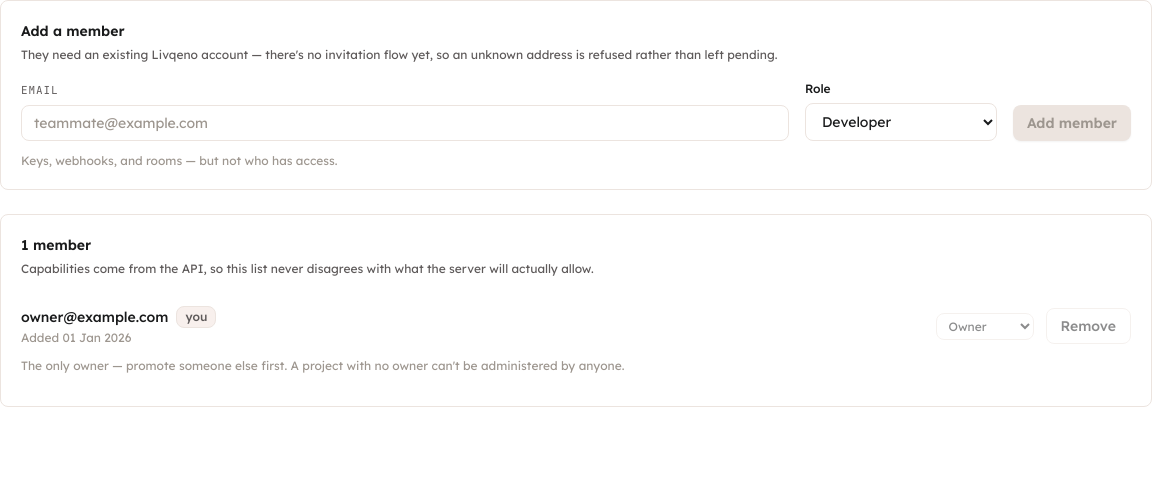
Scenario: MembersManager › adds a member on success, with a toast and no inline error
This screenshot has width=1152, height=487.
Type "new@example.com" into the field labelled "Email". click: (405, 122)
box: [21,104,789,140]
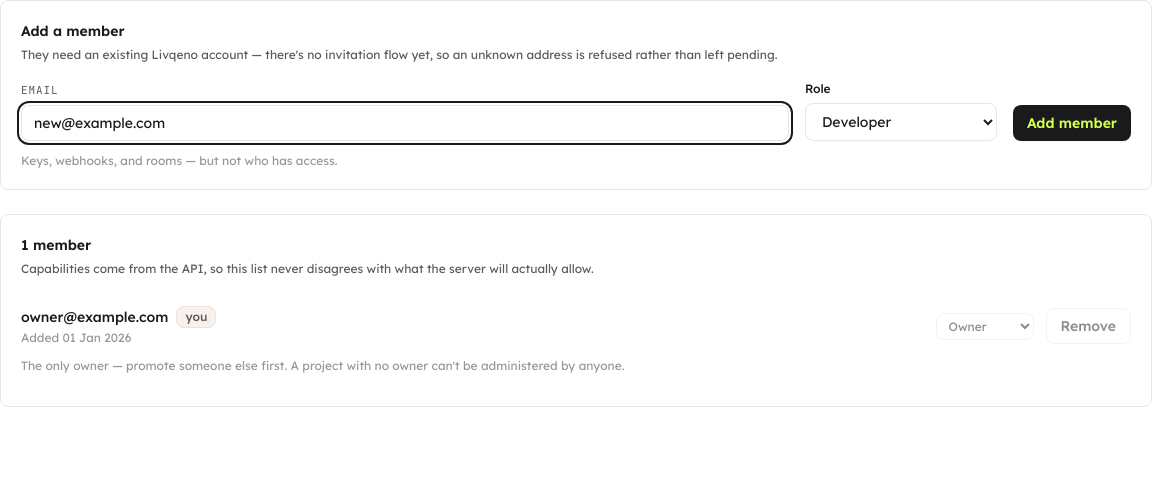
Click the button "Add member". click: (1072, 122)
box: [1013,104,1131,140]
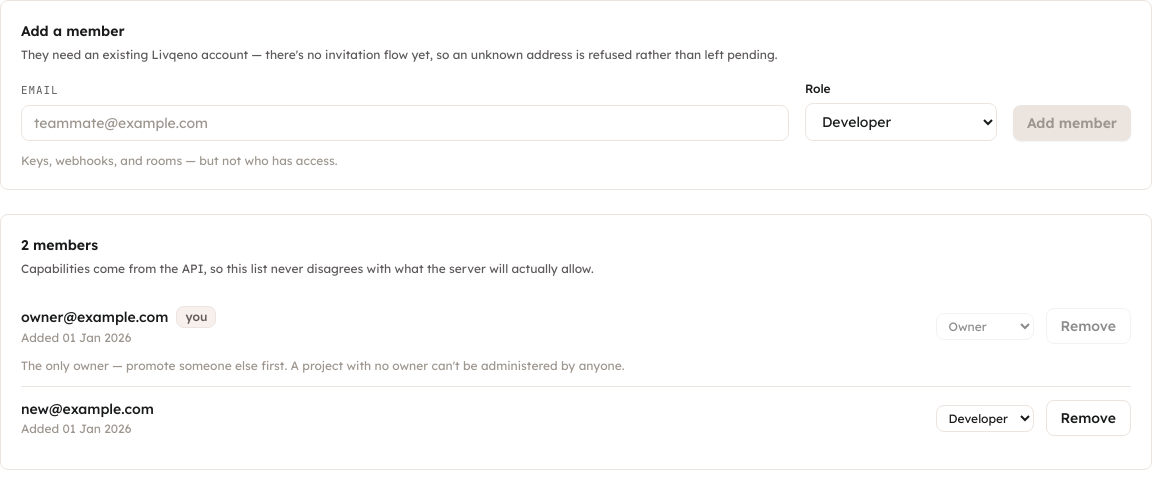
Result: the text "new@example.com" is shown at [21,399,154,419]
